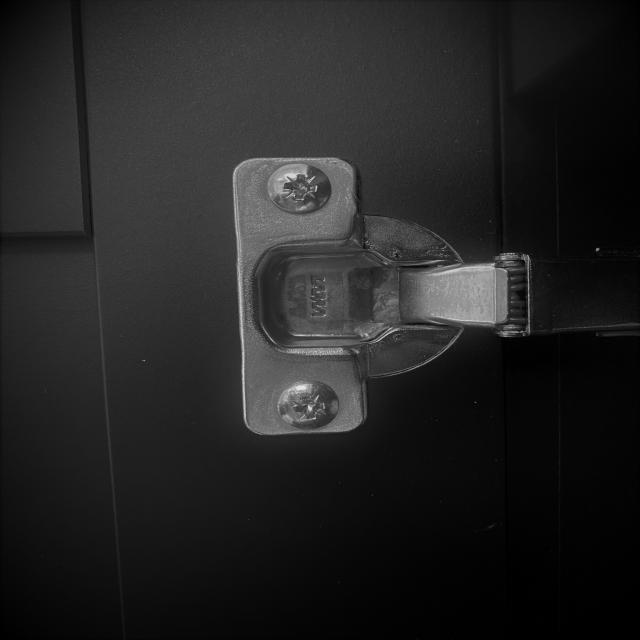PhillipsScrewHead: (269, 163, 334, 214), (276, 381, 342, 430)
